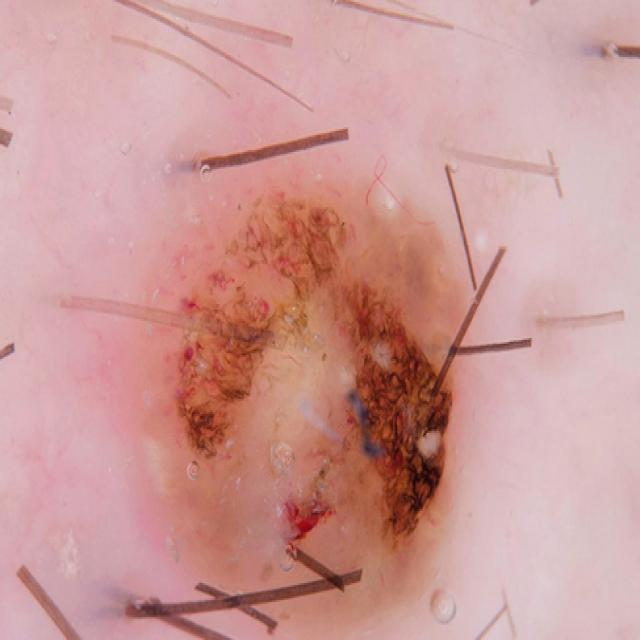Keratosis: (132, 122, 514, 565)
